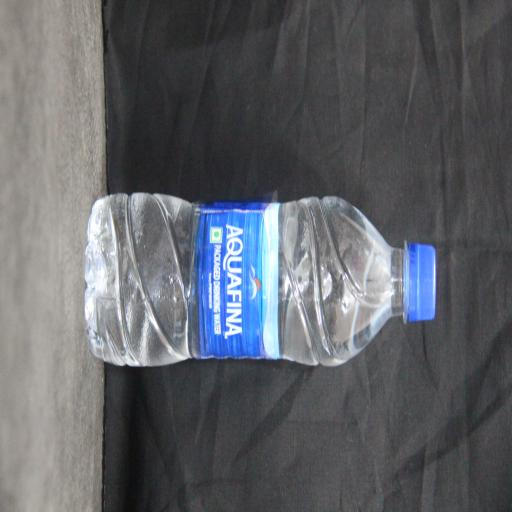Aquafina: (131, 114, 244, 512)
